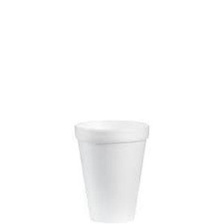paper_cup: (67, 113, 153, 224)
